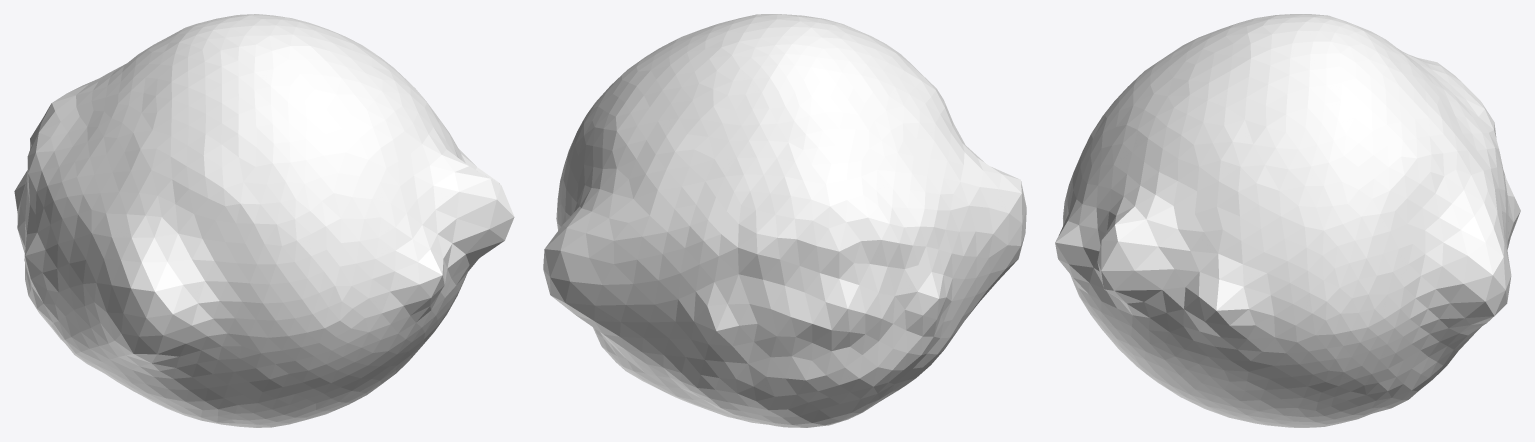
The model's file is plane_rotZ45[0.3,0.0,0.3]s1[-1.7,0.0,-1.7]_00020.obj.
The picture shows the model from 3 angles, left to right: view 1: azimuth 30°, elevation 25°; view 2: azimuth 150°, elevation 25°; view 3: azimuth 270°, elevation 25°; orthographic projection.
Size of the model in its own units: 1 by 0.9001 by 0.9924.
Materials: 1 (1 with a texture image).
